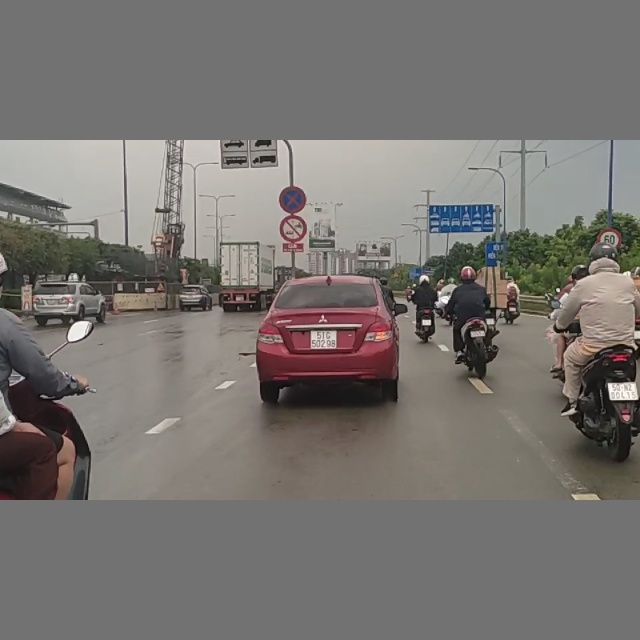P.127*60: (595, 225, 627, 255)
P.130: (279, 186, 306, 213)
